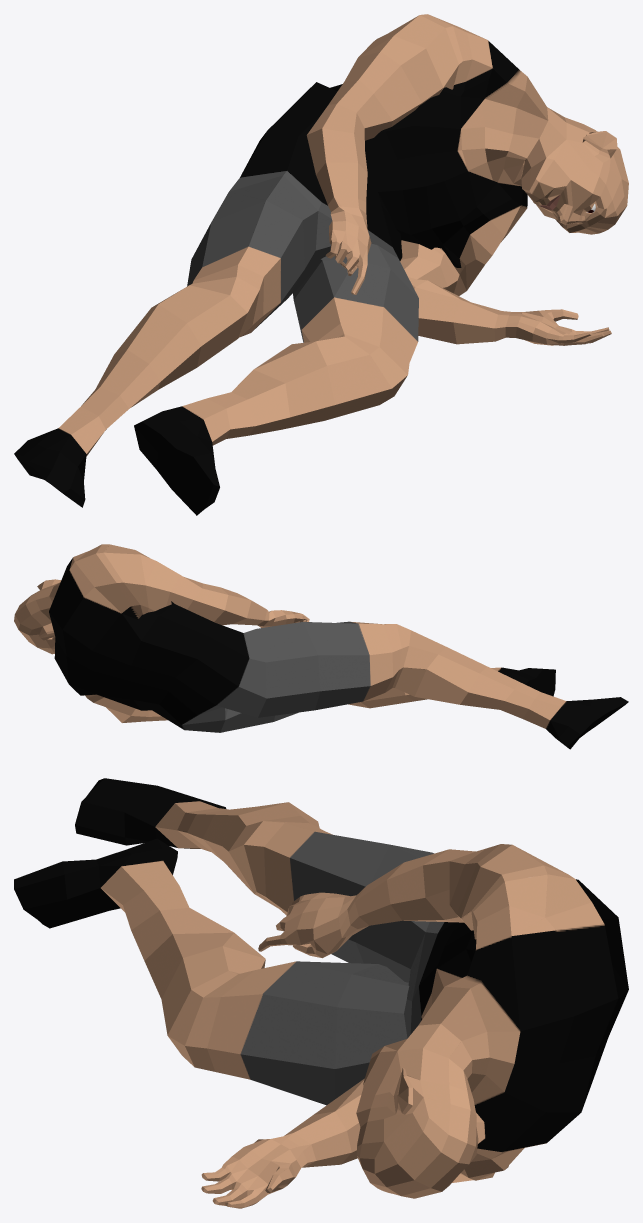
The model's file is PlayerDead(64).obj.
3 renders of one model, top to bottom at view 1: azimuth 30°, elevation 25°; view 2: azimuth 150°, elevation 25°; view 3: azimuth 270°, elevation 25°, orthographic. The views are drawn at different scales.
Parts seen in each view (by area): view 1: Plane002; view 2: Plane002; view 3: Plane002.
Boxes of the visible parts, x1,y1,x2,y2 form: Plane002: (14,14,628,515); Plane002: (14,544,628,749); Plane002: (14,778,628,1208).
Bounding box in the file's own units: 1597 × 547 × 949.
